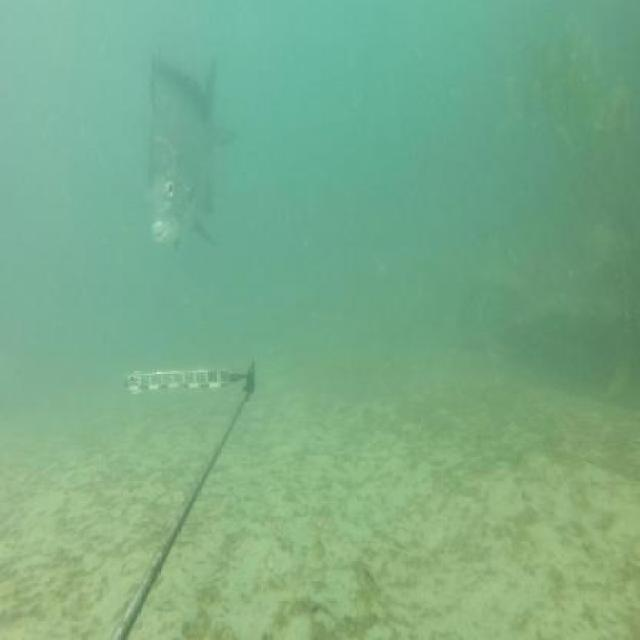acanthopagrus_palmaris: (146, 50, 240, 252)
